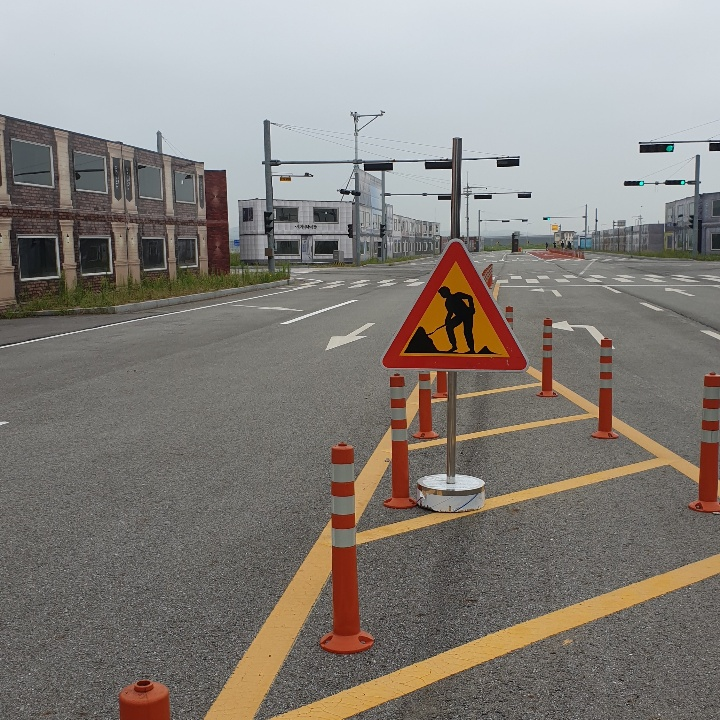const: (404, 279, 504, 359)
